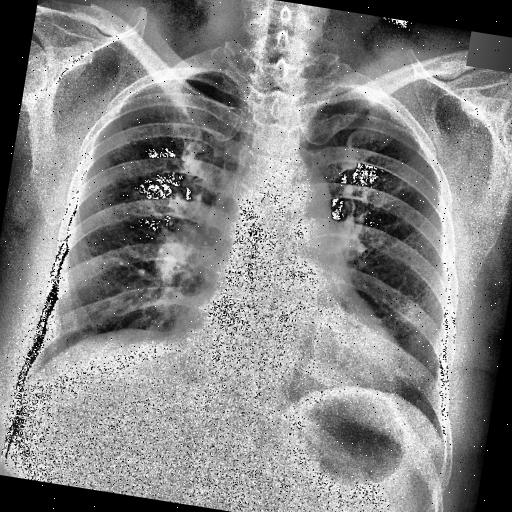0- Aortic enlargement: (254, 154, 340, 236)
3- Cardiomegaly: (161, 298, 423, 412), (170, 284, 419, 400), (170, 292, 412, 400)
